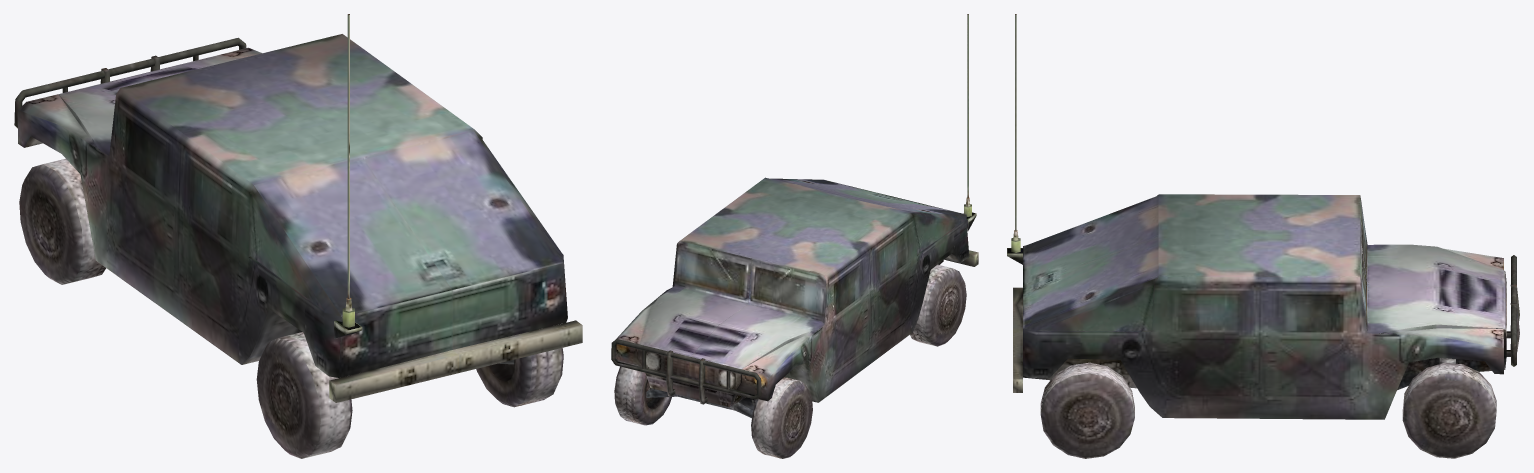
Rendered from humvee.glb.
3 views of the same model, side by side, from view 1: azimuth 30°, elevation 25°; view 2: azimuth 150°, elevation 25°; view 3: azimuth 270°, elevation 25° (orthographic). The views are drawn at different scales.
Parts seen in each view (by area): view 1: humvee; view 2: humvee; view 3: humvee.
Boxes of the visible parts, box(x1,y1,x2,y2) form: humvee: box(14, 14, 582, 458); humvee: box(611, 14, 978, 458); humvee: box(1007, 14, 1519, 458).
Size of the model in its own units: 1.98 by 3.53 by 4.57.
Materials: 1 (1 with a texture image).
